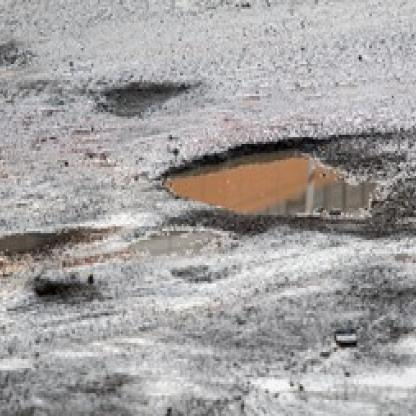pothole: (159, 135, 388, 228)
